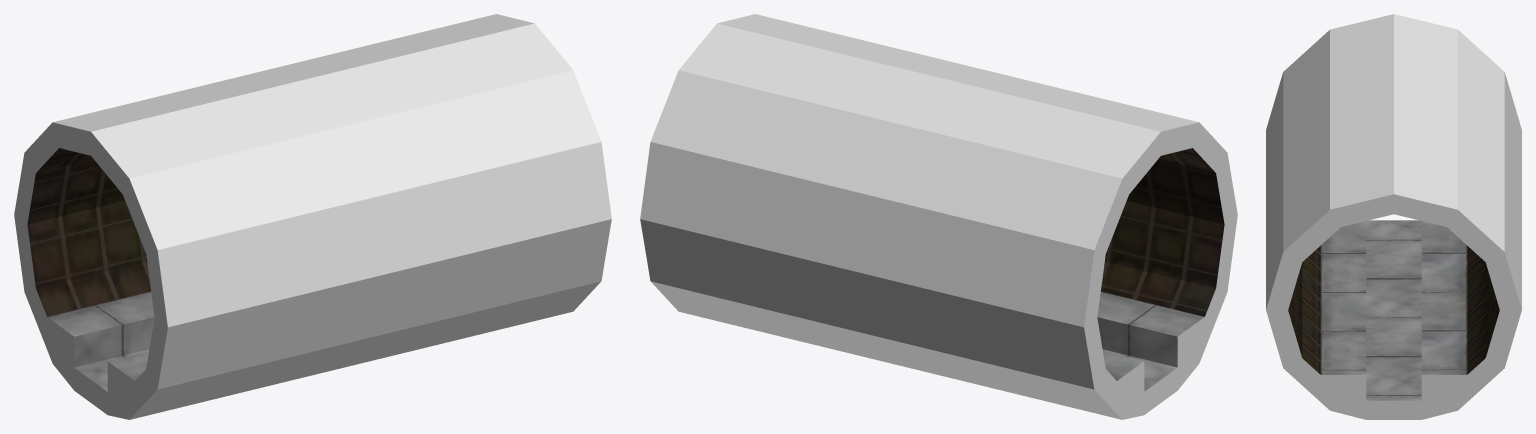
File: tunnel.gltf
3 renders of one model, left to right at view 1: azimuth 30°, elevation 25°; view 2: azimuth 150°, elevation 25°; view 3: azimuth 270°, elevation 25°, orthographic. The views are drawn at different scales.
Visible parts, largest first — view 1: Circle; view 2: Circle; view 3: Circle.
Part boxes in pixels (left/top/right/bottom): Circle: left=14, top=14, right=611, bottom=419; Circle: left=640, top=14, right=1237, bottom=419; Circle: left=1266, top=14, right=1521, bottom=419.
Size of the model in its own units: 10 by 5.84 by 6.
3 materials, 2 textured.
